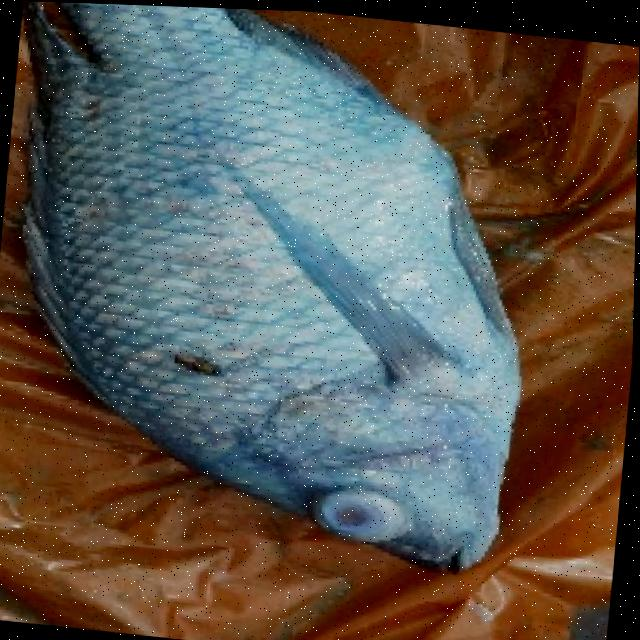Non-Fresh: (27, 1, 547, 576), (290, 447, 417, 558)
